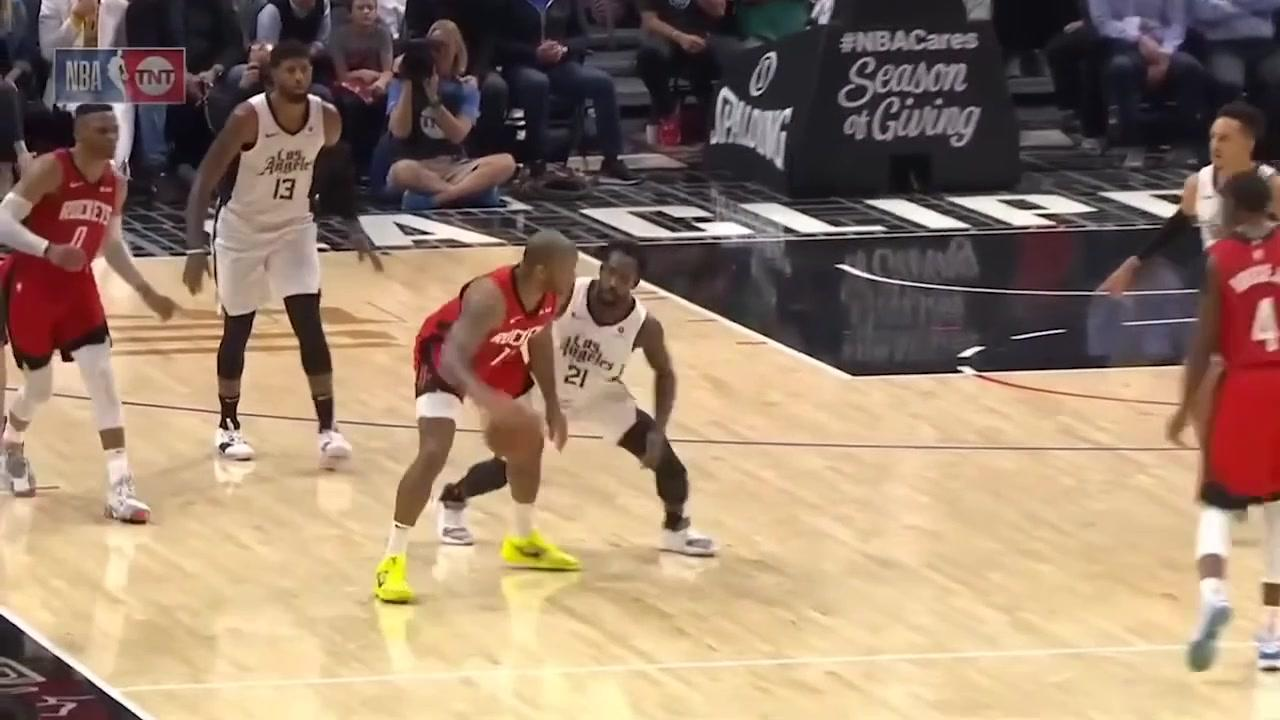no_foul: (354, 214, 747, 604)
